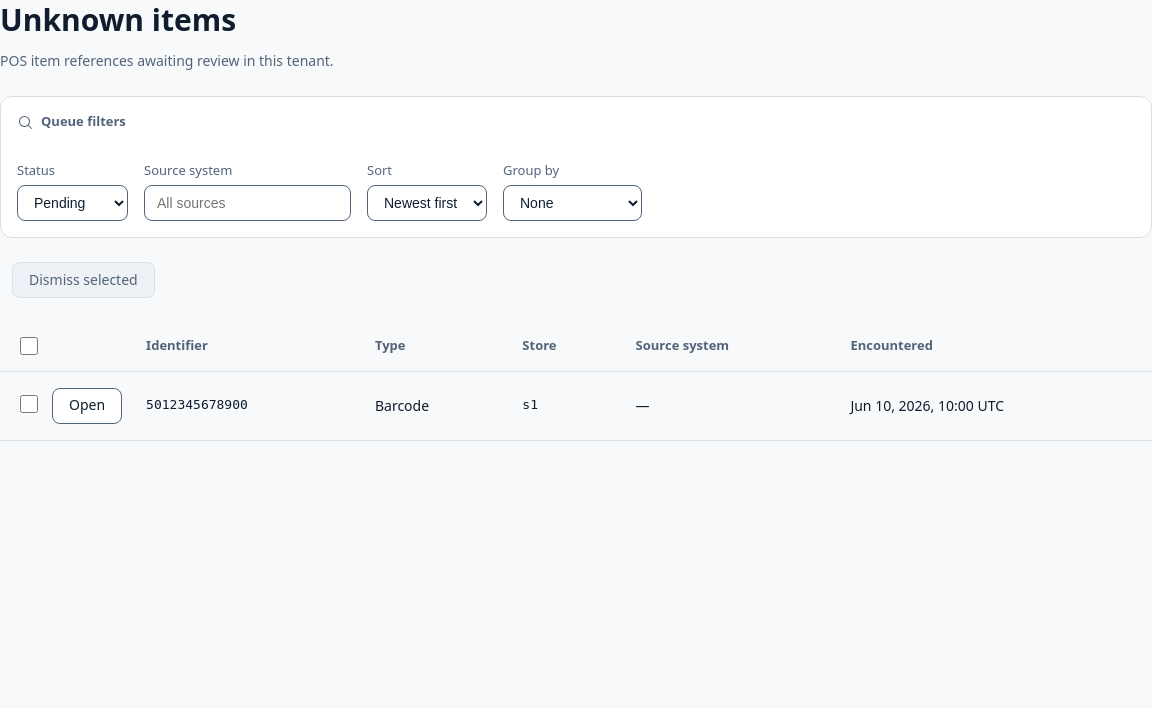
Test: create product from an unknown item › error 0 renders its copy, keeps the input, and is not retried
The image size is (1152, 708).
Click the button with aria-label "Open 5012345678900".
click(87, 406)  # box left=52, top=388, right=122, bottom=424
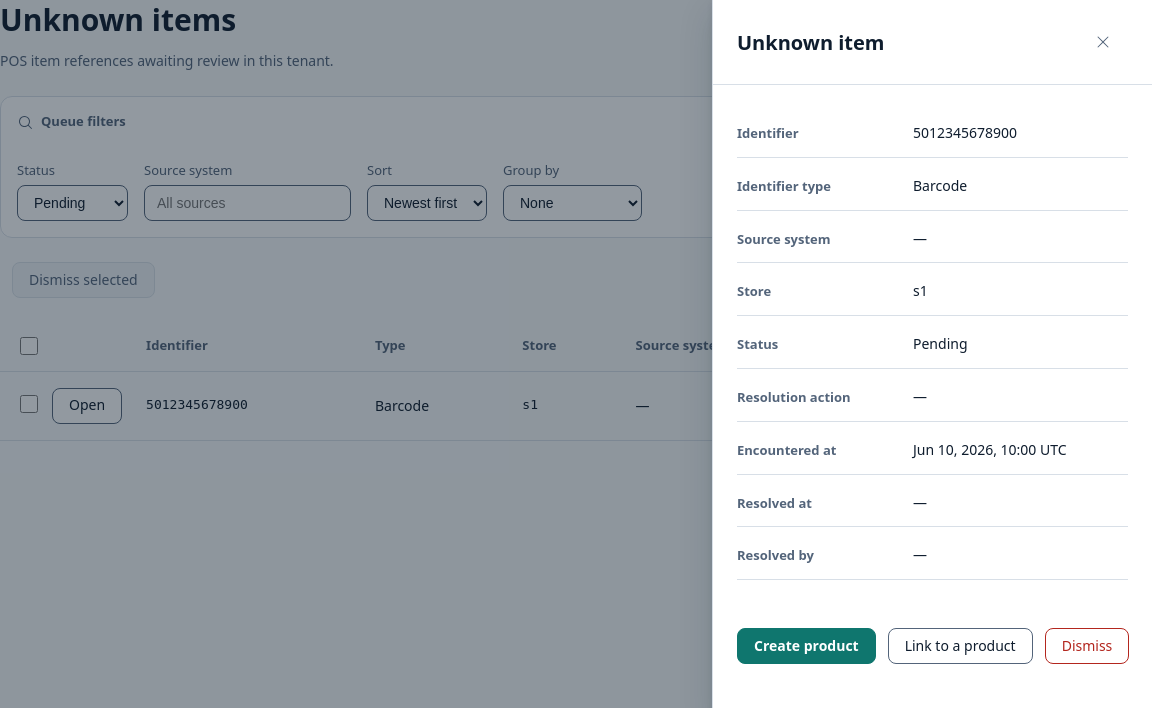
Now the dialog "Unknown item" shows "Identifier type", box left=737, top=177, right=831, bottom=195
Click the button "Create product".
click(806, 646)  # box left=737, top=628, right=876, bottom=664
(page scrolled)
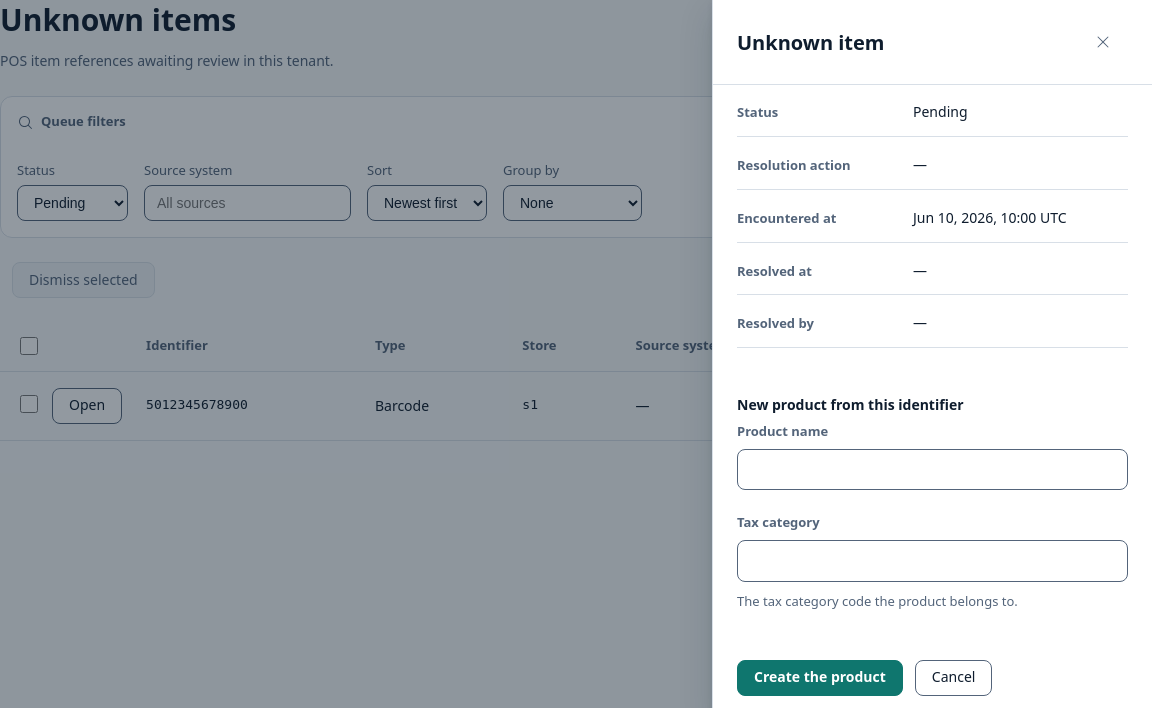
Type "  Sparkling water 1L " into the field labelled "Product name".
click(932, 470); type("  Sparkling water 1L ")  # box left=737, top=449, right=1128, bottom=490
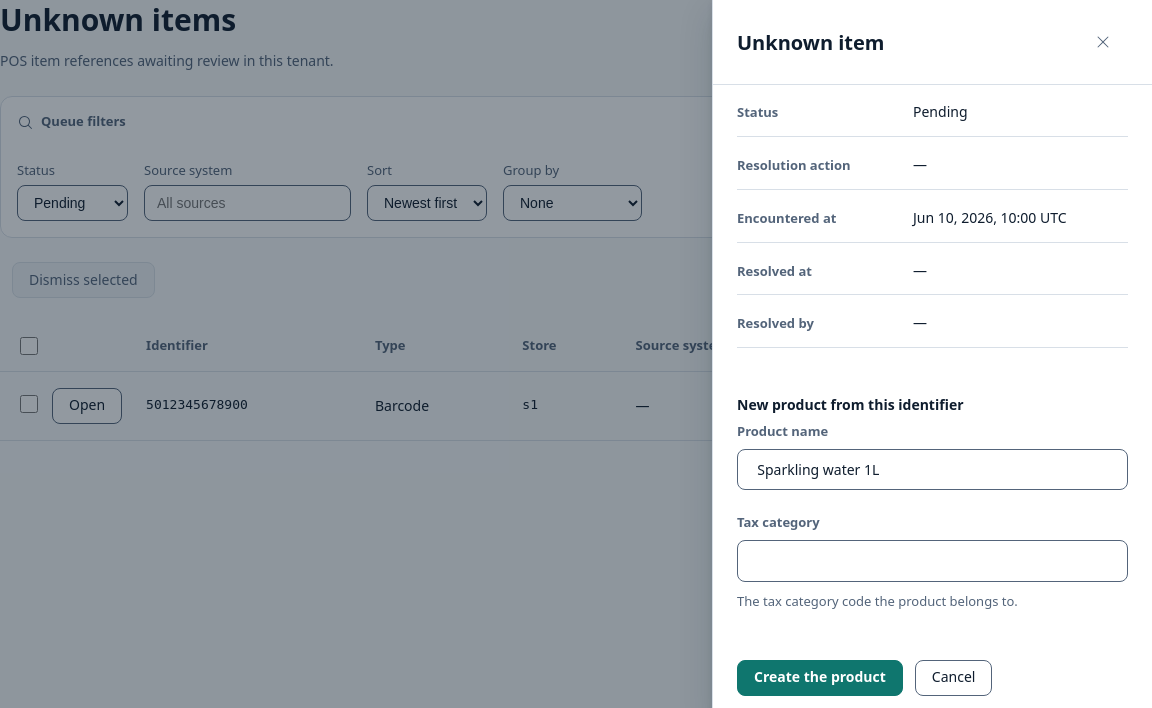
Type "VAT14" into the field labelled "Tax category".
click(932, 561); type("VAT14")  # box left=737, top=540, right=1128, bottom=582
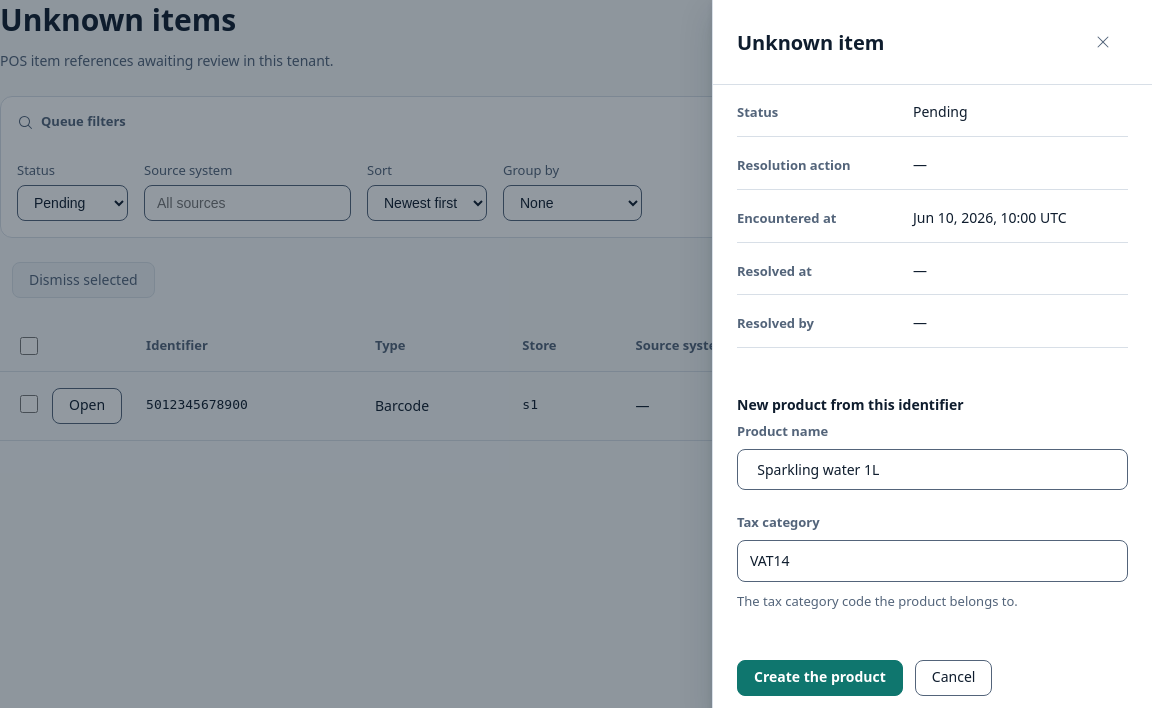
Click the button "Create the product".
click(820, 678)  # box left=737, top=660, right=903, bottom=696
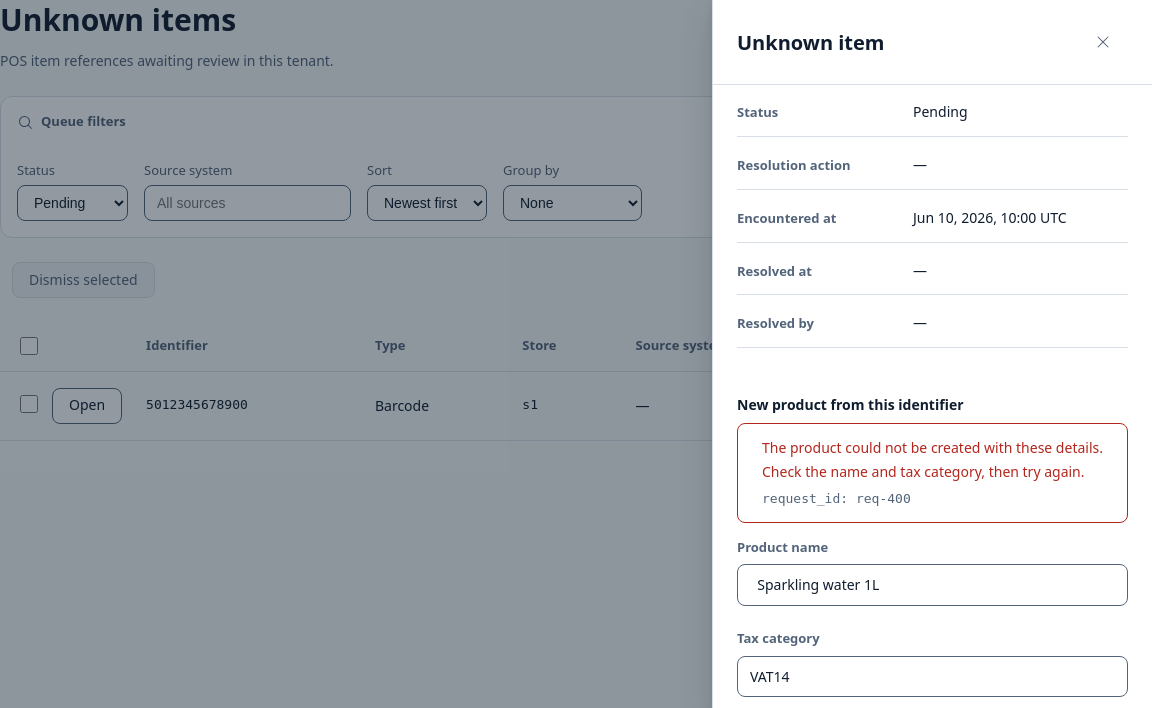
Now the text "could not be created with these details" is shown, box left=762, top=438, right=1103, bottom=481
